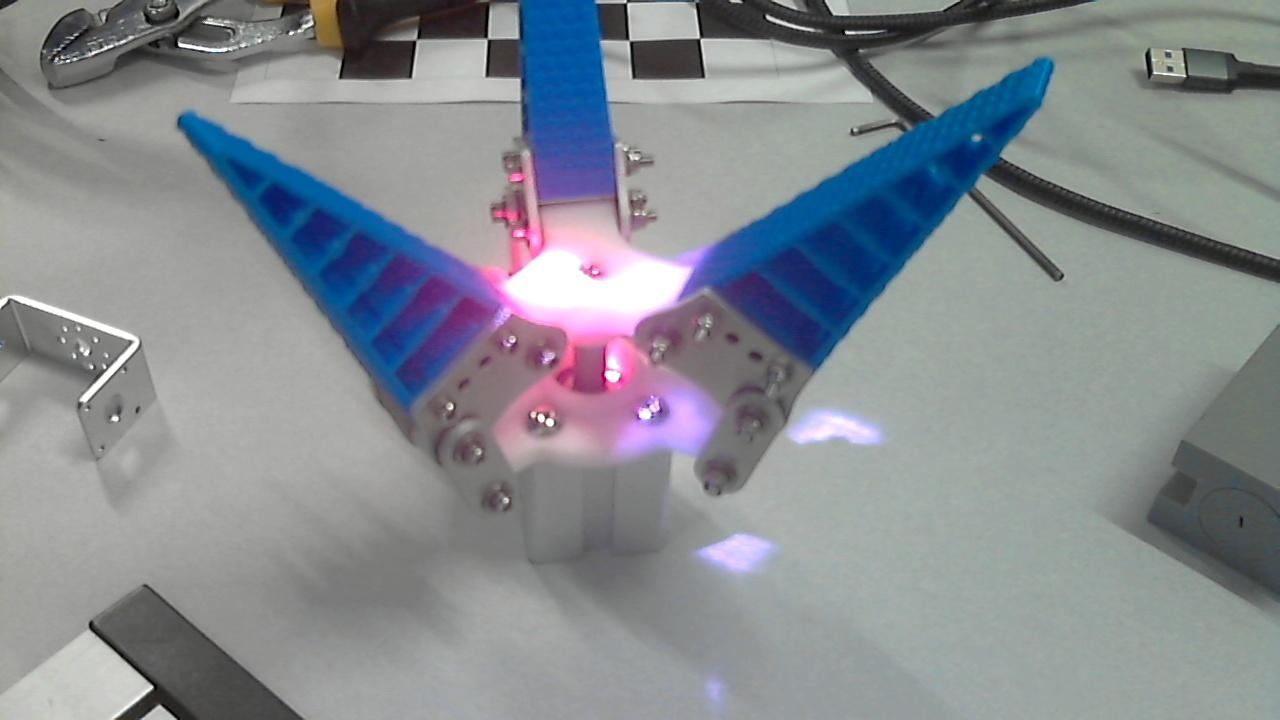Object robotic gripper finger assembly - Material plastic - Color blue - Pdfname: (522, 218, 693, 363)
